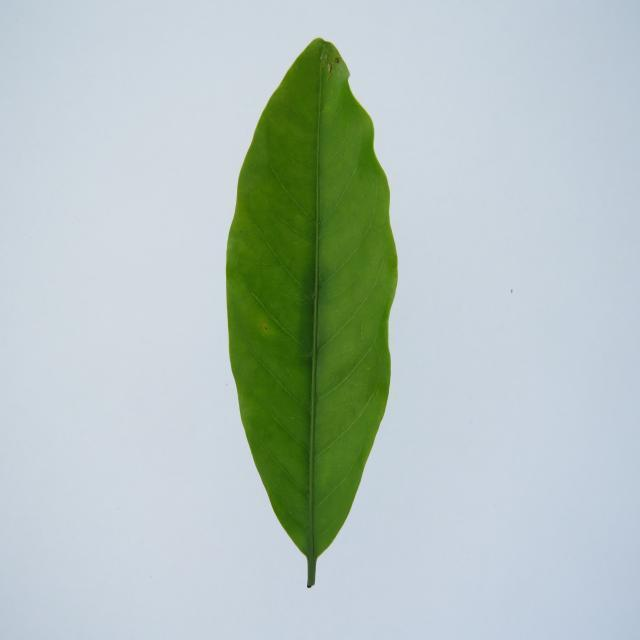DeficienciaNutricional-Boro: (226, 38, 398, 587)
